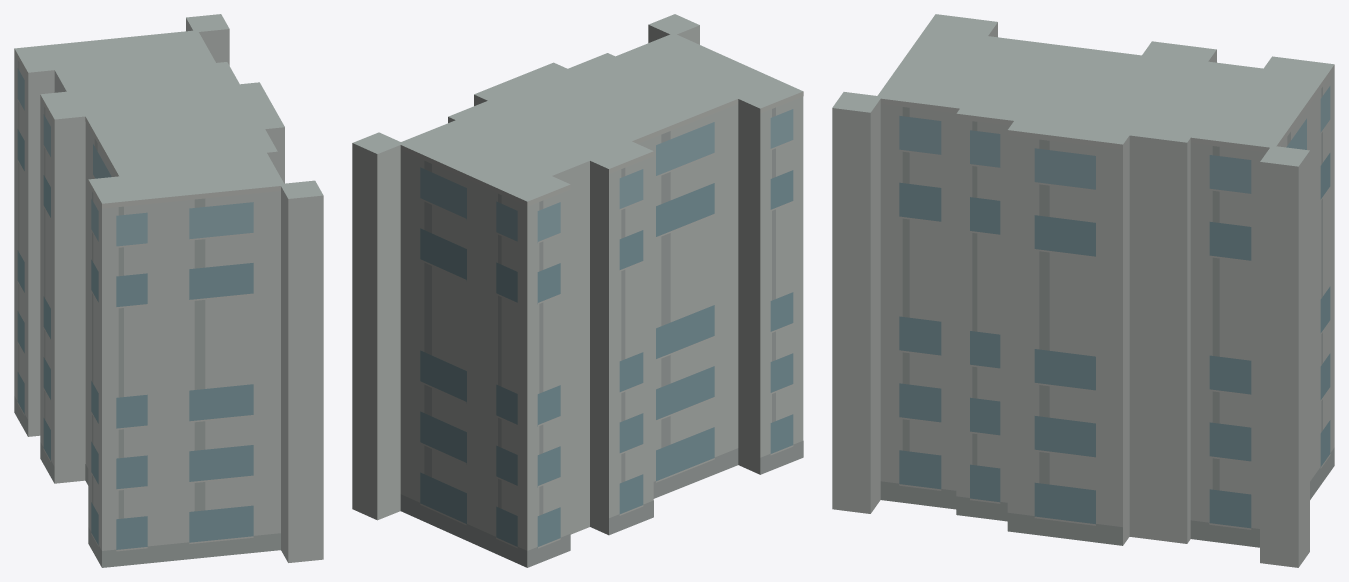
The model's file is survey-upis-32985574.glb.
3 views of the same model, side by side, from view 1: azimuth 30°, elevation 25°; view 2: azimuth 150°, elevation 25°; view 3: azimuth 270°, elevation 25° (orthographic). The views are drawn at different scales.
Parts seen in each view (by area): view 1: survey-upis-32985574.tmp; view 2: survey-upis-32985574.tmp; view 3: survey-upis-32985574.tmp.
Part boxes in pixels (<box>): survey-upis-32985574.tmp: <box>14,14,323,567</box>; survey-upis-32985574.tmp: <box>352,14,803,567</box>; survey-upis-32985574.tmp: <box>832,14,1334,567</box>.
Size of the model in its own units: 14.44 by 17.7 by 20.09.
